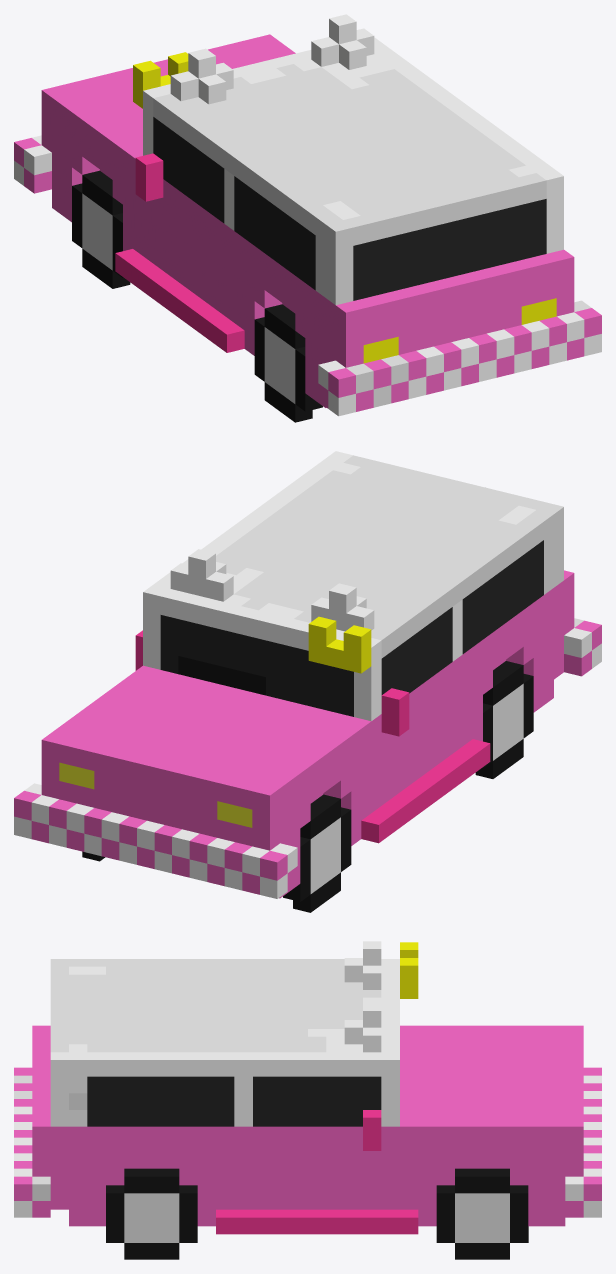
The model's file is car_11.glb.
3 renders of one model, top to bottom at view 1: azimuth 30°, elevation 25°; view 2: azimuth 150°, elevation 25°; view 3: azimuth 270°, elevation 25°, orthographic. The views are drawn at different scales.
Parts seen in each view (by area): view 1: ObjObject; view 2: ObjObject; view 3: ObjObject.
Boxes of the visible parts, x1,y1,x2,y2 form: ObjObject: (14,14,601,422); ObjObject: (14,451,601,912); ObjObject: (14,941,601,1259).
Size of the model in its own units: 1.5 by 1.4 by 3.2.
1 material, 1 textured.
